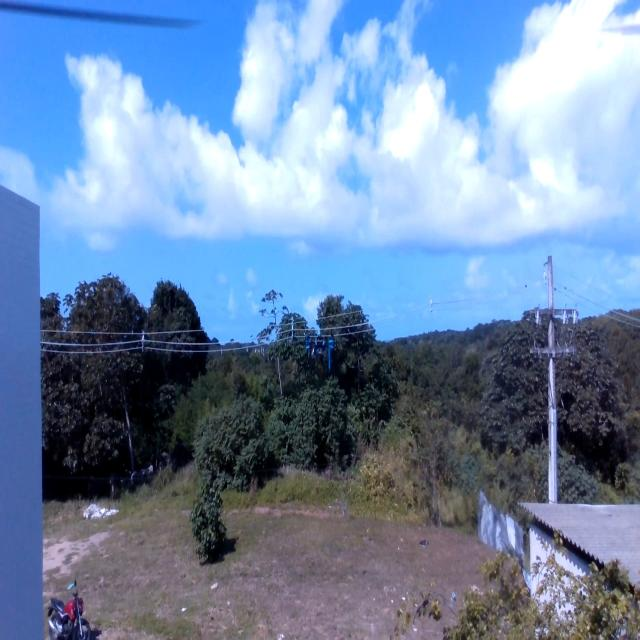-uav-: (301, 323, 338, 387)
